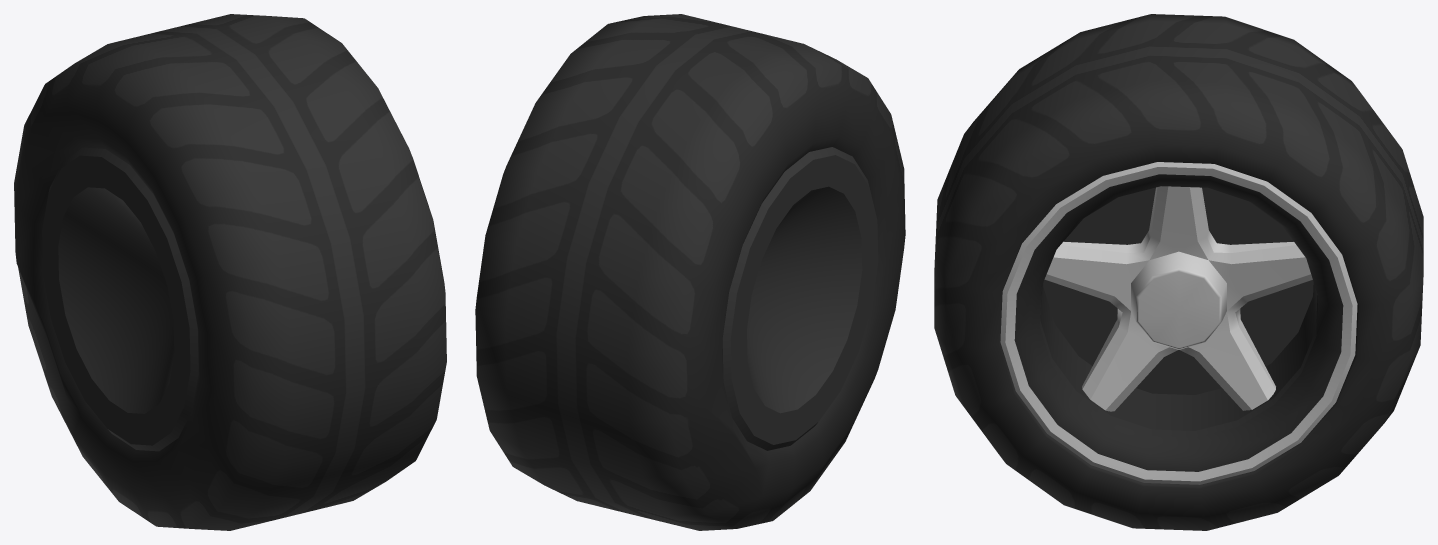
File: Car_04_Wheel_BL.fbx
The picture shows the model from 3 angles, left to right: view 1: azimuth 30°, elevation 25°; view 2: azimuth 150°, elevation 25°; view 3: azimuth 270°, elevation 25°; orthographic projection.
Visible parts, largest first — view 1: Car_04_Wheel_BL; view 2: Car_04_Wheel_BL; view 3: Car_04_Wheel_BL.
Part boxes in pixels (x1=…): Car_04_Wheel_BL: x1=14, y1=14, x2=446, y2=530; Car_04_Wheel_BL: x1=475, y1=14, x2=905, y2=530; Car_04_Wheel_BL: x1=934, y1=14, x2=1423, y2=530.
Size of the model in its own units: 50 by 95 by 95.
